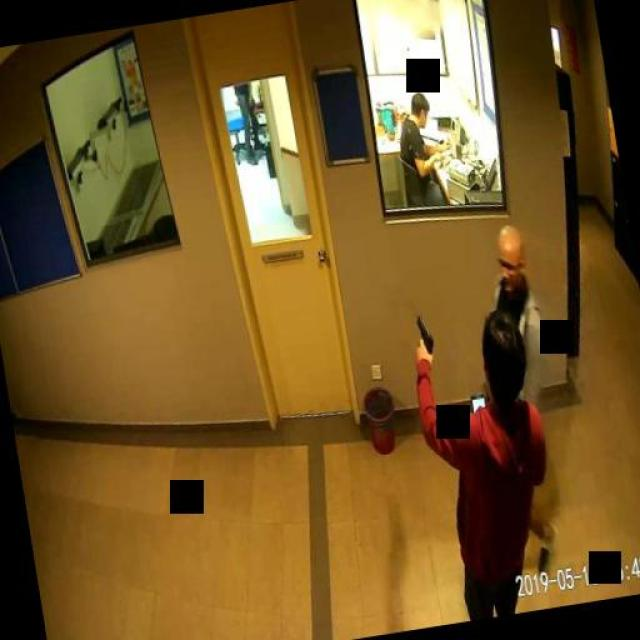gun: (410, 310, 432, 358)
